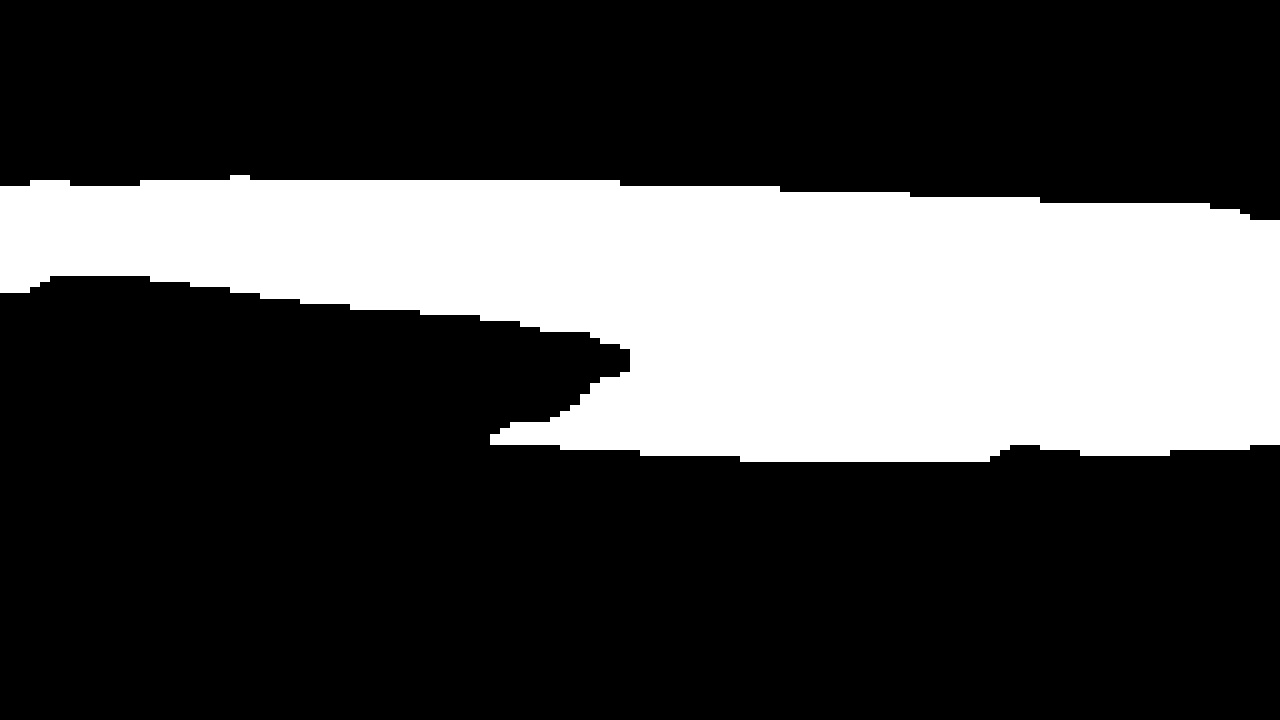Turbine: (12, 144, 1269, 486)
